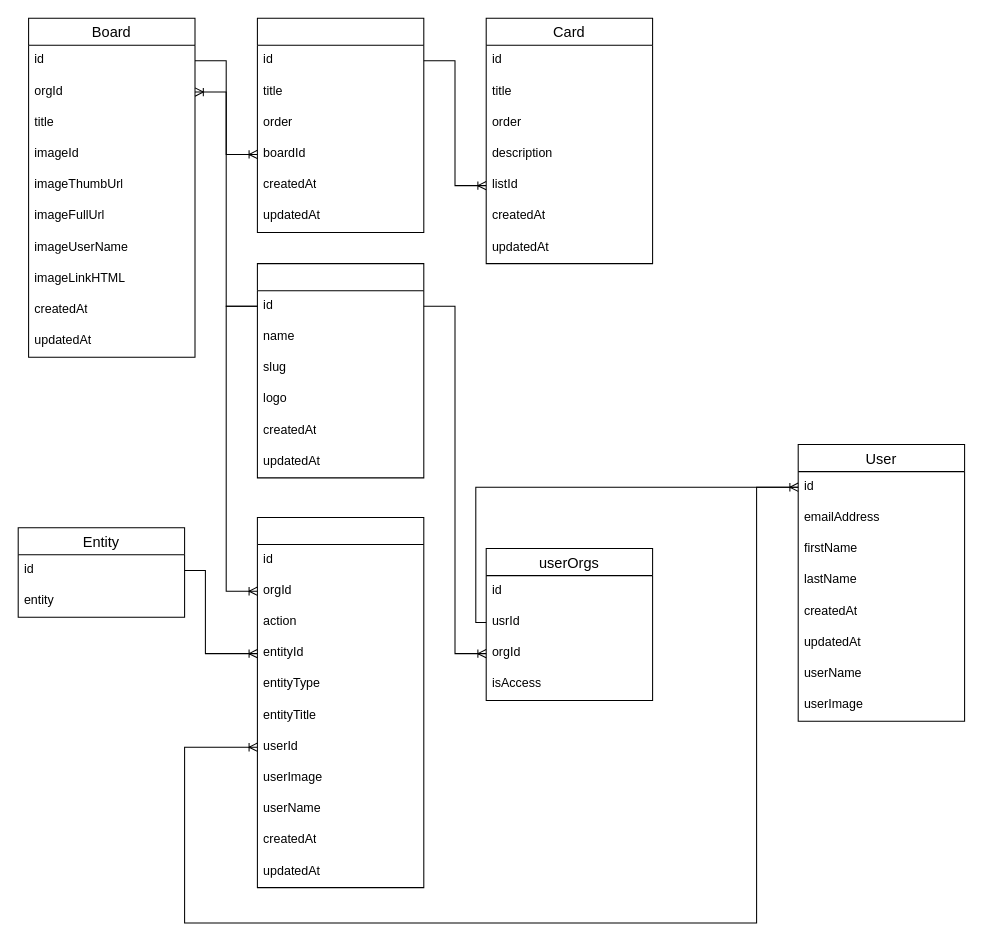
This 983x950 diagram has some shape labels left out. Each missing label, with the box of its shape:
AuditLog: (256, 516, 424, 888)
List: (256, 17, 424, 232)
Org: (256, 263, 424, 478)
